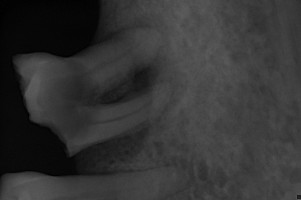Dental Caries: (72, 14, 191, 170)
